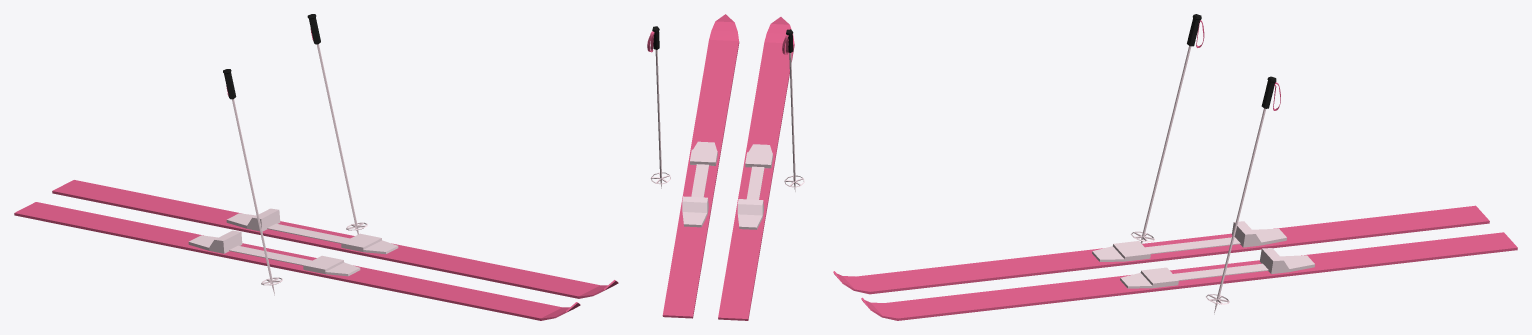
File: skiOnFeetnew.glb
3 renders of one model, left to right at view 1: azimuth 30°, elevation 25°; view 2: azimuth 150°, elevation 25°; view 3: azimuth 270°, elevation 25°, orthographic. The views are drawn at different scales.
Visible parts, largest first — view 1: group915994952, group915994952.001, group1189042932, group1189042932.001; view 2: group915994952.001, group915994952, group1189042932.001, group1189042932; view 3: group915994952.001, group915994952, group1189042932.001, group1189042932.
Part boxes in pixels (x1=…): group915994952: x1=14, y1=202, x2=580, y2=320; group915994952.001: x1=52, y1=180, x2=618, y2=298; group1189042932: x1=223, y1=69, x2=282, y2=295; group1189042932.001: x1=307, y1=14, x2=367, y2=234; group915994952.001: x1=662, y1=14, x2=739, y2=318; group915994952: x1=718, y1=17, x2=794, y2=320; group1189042932.001: x1=650, y1=26, x2=670, y2=188; group1189042932: x1=784, y1=29, x2=804, y2=191; group915994952.001: x1=861, y1=232, x2=1517, y2=320; group915994952: x1=833, y1=205, x2=1489, y2=294; group1189042932.001: x1=1206, y1=76, x2=1276, y2=314; group1189042932: x1=1131, y1=14, x2=1201, y2=243.
Bounding box in the file's own units: 6.71 × 4.42 × 11.59.
